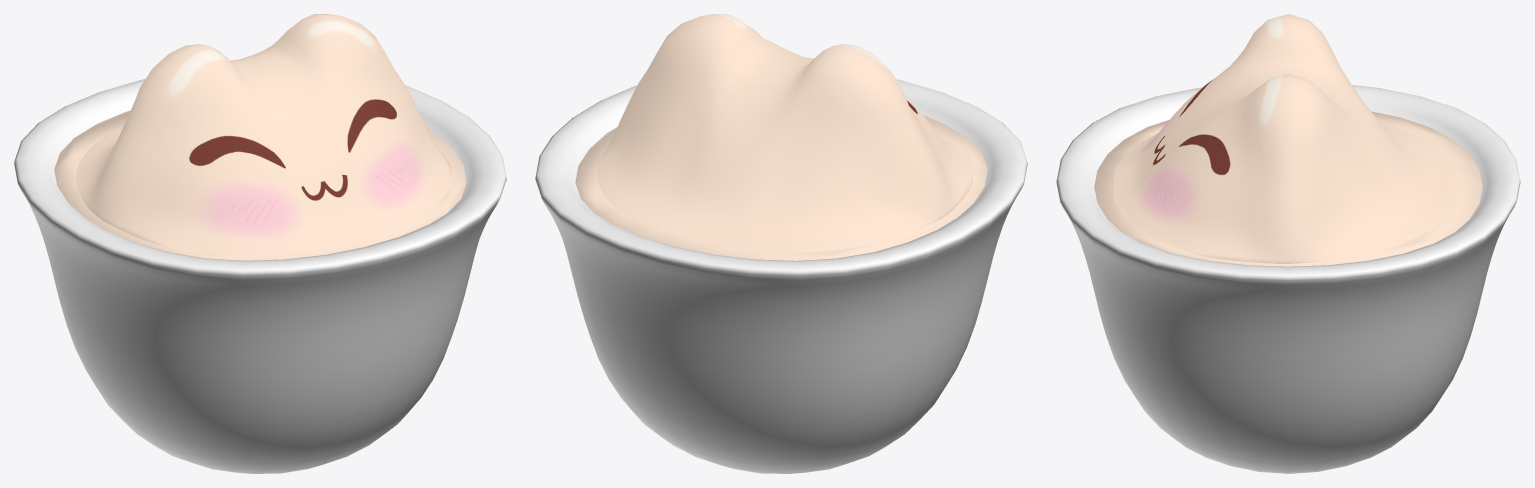
Rendered from car.glb.
3 renders of one model, left to right at view 1: azimuth 30°, elevation 25°; view 2: azimuth 150°, elevation 25°; view 3: azimuth 270°, elevation 25°, orthographic. The views are drawn at different scales.
Visible parts, largest first — view 1: Cup, Face, Liquid; view 2: Cup, Face, Liquid; view 3: Cup, Face, Liquid.
Boxes of the visible parts, x1,y1,x2,y2 form: Cup: [14, 79, 506, 473]; Face: [76, 14, 452, 255]; Liquid: [54, 110, 466, 260]; Cup: [535, 79, 1027, 473]; Face: [597, 14, 972, 252]; Liquid: [575, 115, 987, 260]; Cup: [1056, 85, 1520, 473]; Face: [1114, 14, 1455, 263]; Liquid: [1094, 111, 1482, 266].
Size of the model in its own units: 3.42 by 3.28 by 3.42.
Materials: 2 (2 with a texture image).
